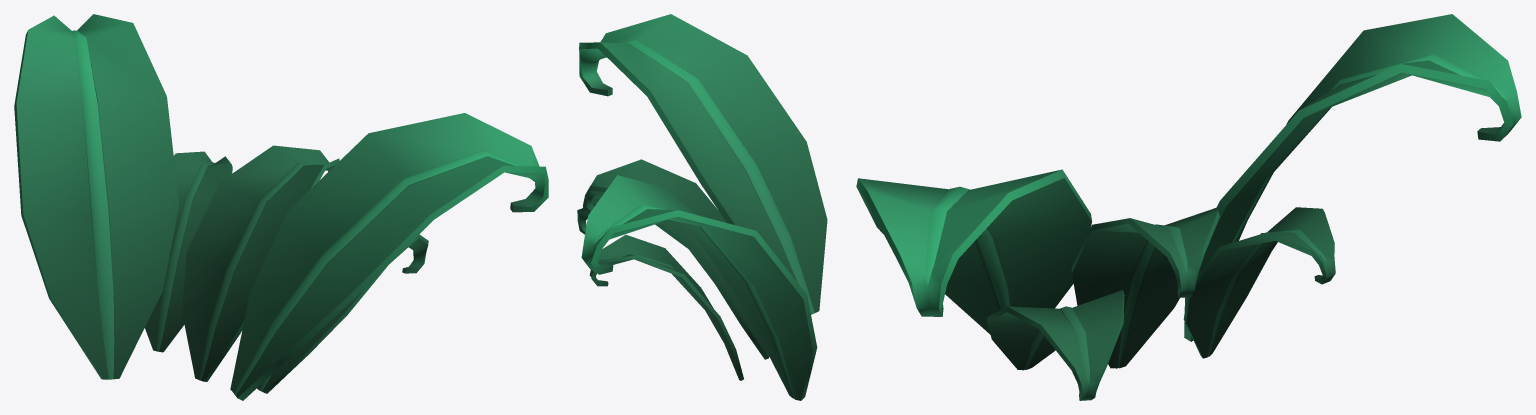
The model's file is leaf.fbx.
3 views of the same model, side by side, from view 1: azimuth 30°, elevation 25°; view 2: azimuth 150°, elevation 25°; view 3: azimuth 270°, elevation 25° (orthographic). The views are drawn at different scales.
Parts seen in each view (by area): view 1: Leaf.005; view 2: Leaf.005; view 3: Leaf.005.
Part boxes in pixels (x1,y1,x2,y2): Leaf.005: [14, 14, 548, 400]; Leaf.005: [577, 14, 827, 400]; Leaf.005: [856, 14, 1521, 400].
Bounding box in the file's own units: 71.96 × 49.02 × 87.38.
